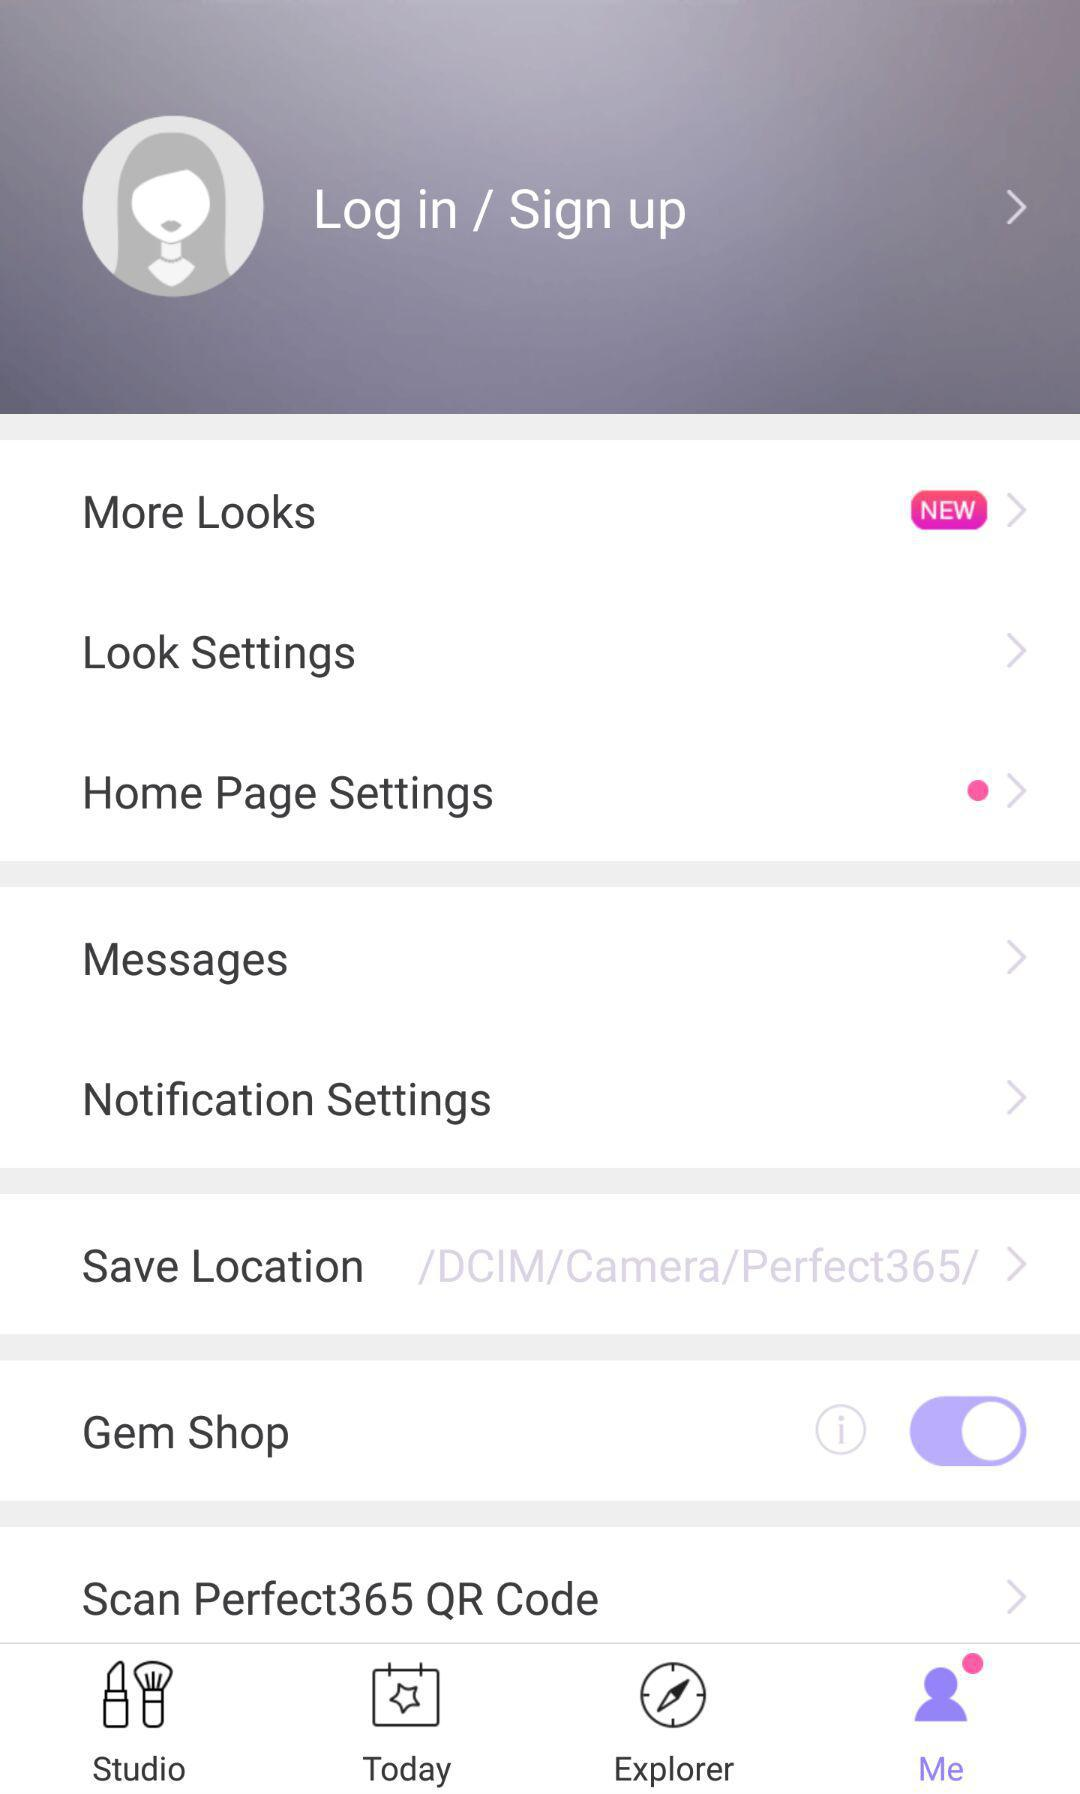Icon: (82, 115, 266, 300), (641, 1661, 707, 1729), (372, 1662, 441, 1727), (913, 1667, 967, 1724), (816, 1403, 869, 1456), (1004, 188, 1029, 226), (1004, 1577, 1027, 1615), (1006, 1080, 1027, 1116), (1006, 939, 1027, 975), (1007, 773, 1027, 810), (1007, 632, 1027, 669), (1007, 492, 1027, 529), (1007, 1246, 1027, 1281)
Image: (104, 1659, 176, 1729)
Switch: (910, 1394, 1027, 1467)
Text: (416, 1246, 980, 1287), (83, 1580, 600, 1621), (316, 188, 687, 242), (85, 1080, 491, 1126), (86, 775, 495, 820), (85, 633, 356, 679), (83, 1248, 364, 1284), (85, 1413, 290, 1460), (85, 942, 288, 985), (85, 493, 316, 531), (615, 1756, 735, 1788), (363, 1756, 452, 1789), (94, 1756, 187, 1782), (919, 1756, 963, 1782)
TextButton: (910, 490, 988, 531)
